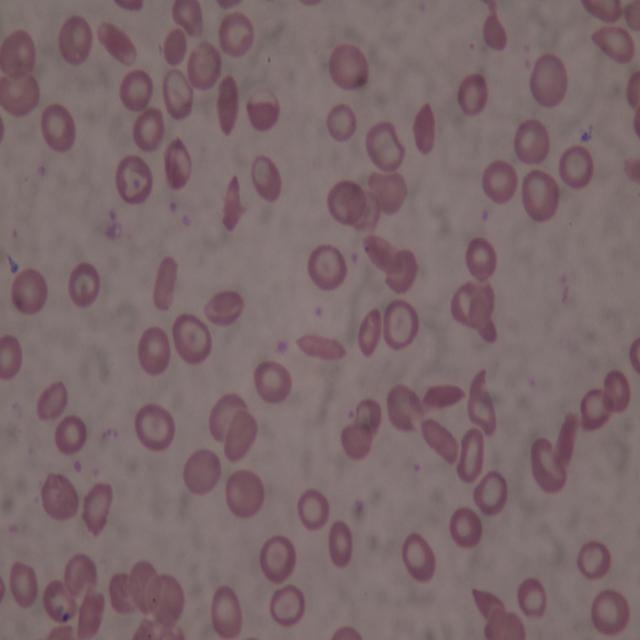Crystal: (95, 18, 139, 68), (420, 418, 460, 465), (589, 24, 635, 63), (361, 234, 404, 275), (294, 330, 346, 363), (410, 101, 437, 158), (151, 254, 177, 313), (217, 74, 240, 140), (554, 411, 578, 467), (221, 176, 243, 232), (357, 309, 381, 357)
Normal: (521, 167, 561, 222), (38, 103, 78, 155), (10, 269, 49, 317), (252, 358, 293, 403), (400, 532, 436, 583), (56, 16, 93, 64), (590, 589, 630, 633), (480, 160, 518, 205), (264, 584, 306, 624), (513, 120, 550, 165), (465, 234, 498, 283), (473, 471, 510, 514), (131, 107, 167, 151), (559, 145, 595, 189), (7, 560, 38, 610), (515, 576, 549, 620), (578, 538, 610, 582), (449, 508, 483, 549), (119, 69, 153, 109), (54, 415, 88, 454), (457, 74, 488, 116), (298, 490, 330, 530), (326, 102, 357, 142), (0, 333, 23, 381)
Others: (465, 368, 501, 436), (145, 572, 186, 630), (529, 51, 568, 110), (223, 468, 266, 520), (364, 121, 406, 174), (132, 402, 175, 451), (530, 439, 568, 493), (40, 471, 80, 522), (382, 299, 420, 352), (183, 445, 221, 496), (114, 154, 152, 205), (217, 10, 256, 59), (80, 481, 113, 538), (328, 44, 370, 88), (327, 179, 367, 225), (0, 73, 39, 120), (208, 392, 246, 440), (386, 384, 420, 437), (223, 412, 259, 462), (210, 584, 243, 638), (369, 172, 409, 216), (137, 326, 171, 377), (161, 68, 195, 119), (250, 154, 284, 204), (0, 31, 36, 78), (67, 262, 101, 310), (190, 40, 222, 90), (162, 138, 192, 191), (64, 554, 98, 600), (204, 287, 245, 325), (386, 249, 420, 294), (578, 388, 614, 430), (456, 429, 484, 483), (34, 378, 68, 422), (246, 88, 280, 131), (76, 588, 104, 640), (482, 607, 526, 640), (325, 520, 355, 568), (129, 561, 155, 613), (43, 580, 77, 619), (170, 0, 205, 37), (467, 305, 501, 343), (341, 422, 374, 461), (448, 282, 478, 324), (107, 574, 136, 615), (604, 371, 632, 412), (481, 12, 508, 54), (470, 285, 496, 327), (162, 26, 188, 67), (353, 398, 381, 436), (582, 4, 624, 22), (626, 334, 640, 376), (620, 3, 639, 30), (333, 622, 365, 638)
Sickle: (418, 380, 466, 410), (470, 586, 506, 621)
Target: (171, 312, 212, 363), (308, 244, 349, 292), (259, 532, 296, 581)
